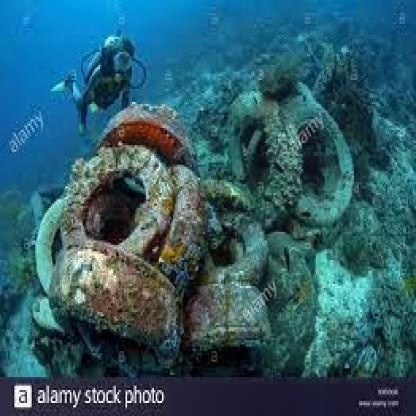tire: (44, 238, 194, 375), (44, 143, 167, 253), (206, 87, 298, 221), (283, 86, 356, 228), (168, 273, 275, 362), (90, 96, 205, 160), (152, 154, 200, 297), (194, 193, 265, 288), (20, 186, 72, 292)
